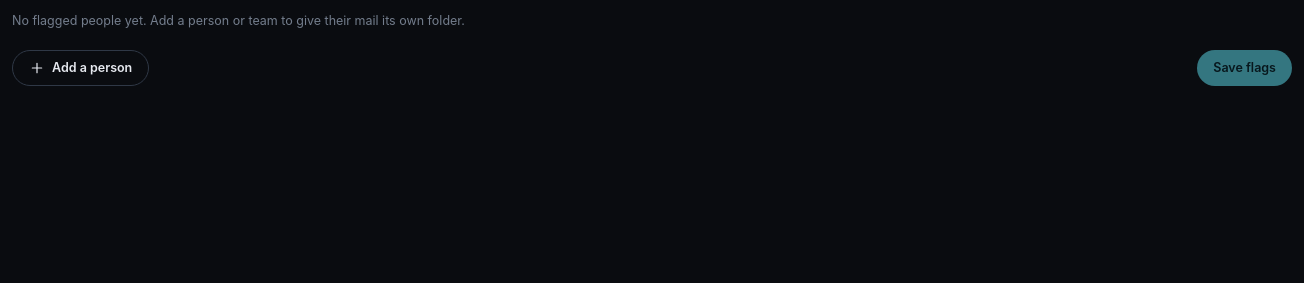
Test: PersonFlagsEditor › reports validation problems instead of saving
Click the button "Add a person" at (81, 68), box left=12, top=50, right=149, bottom=86
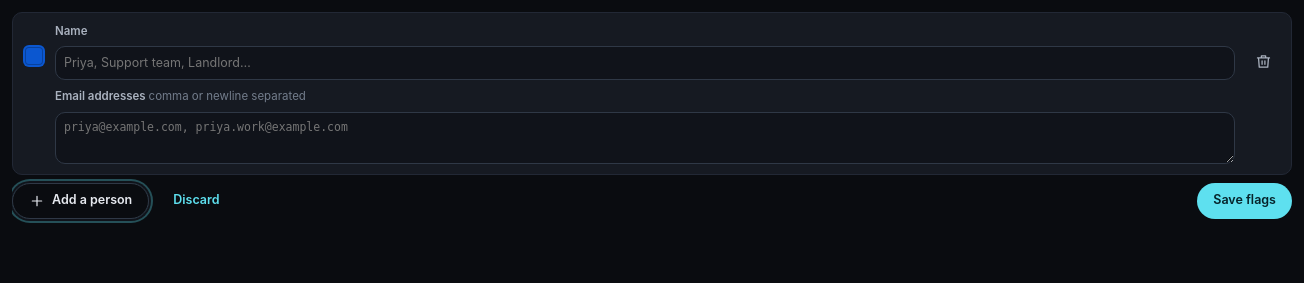
Type "Broken" into the field labelled "Name" at (645, 63), box left=55, top=46, right=1235, bottom=80
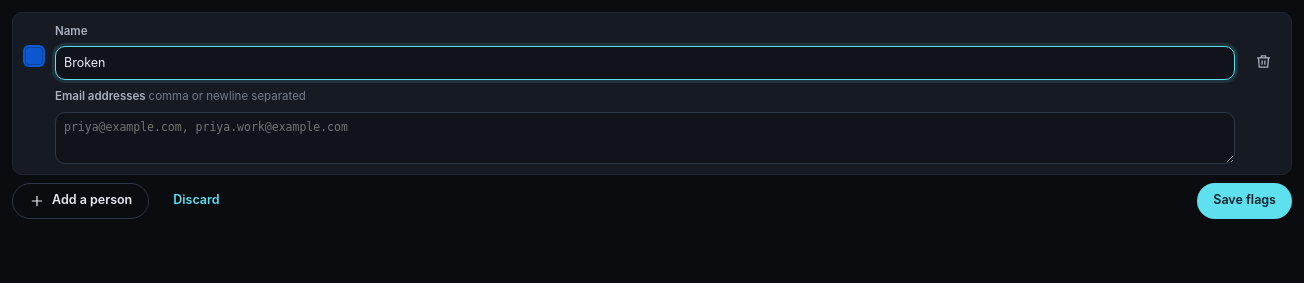
Type "nope" into the text box labelled "Email addresses comma or newline separated" at (645, 138), box left=55, top=112, right=1235, bottom=164
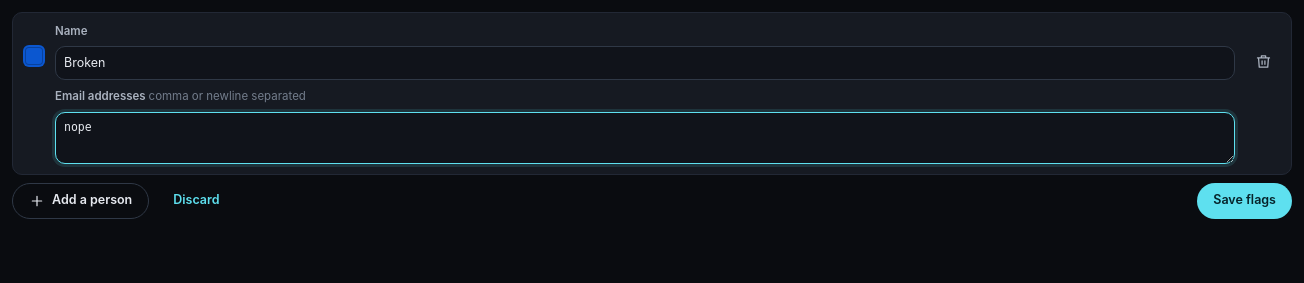
Click the button "Save flags" at (1245, 200), box left=1197, top=182, right=1292, bottom=218
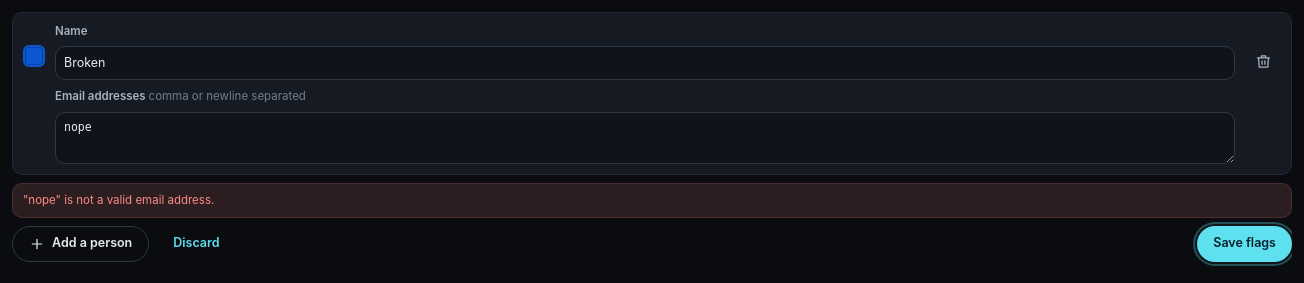
Check: the message shows "not a valid email", box left=23, top=192, right=214, bottom=206
